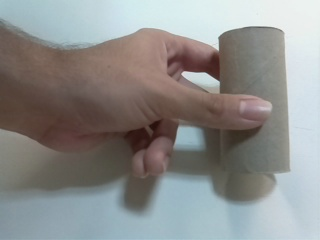rollo papel: (213, 25, 293, 176)
